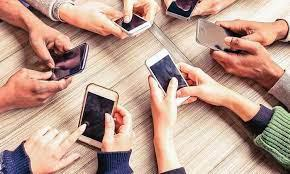Hand: (210, 34, 266, 79), (39, 124, 88, 174), (4, 69, 73, 104), (179, 61, 217, 102), (97, 106, 130, 150), (31, 20, 66, 61), (84, 3, 122, 39), (221, 18, 274, 43), (151, 76, 179, 117), (125, 0, 164, 24)
Smartphone: (77, 83, 119, 151), (145, 48, 191, 106), (37, 42, 90, 79), (199, 21, 235, 53), (120, 11, 148, 38), (158, 0, 199, 16)
